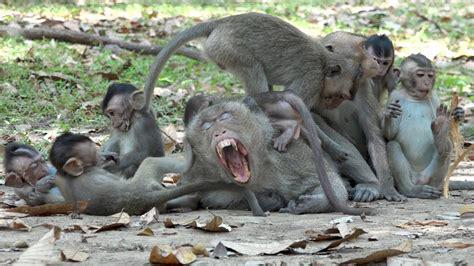monkey: (138, 13, 362, 100), (50, 130, 266, 217), (183, 102, 344, 213), (320, 31, 405, 199), (384, 54, 461, 198), (100, 81, 165, 176), (3, 140, 62, 204), (364, 33, 396, 79)
